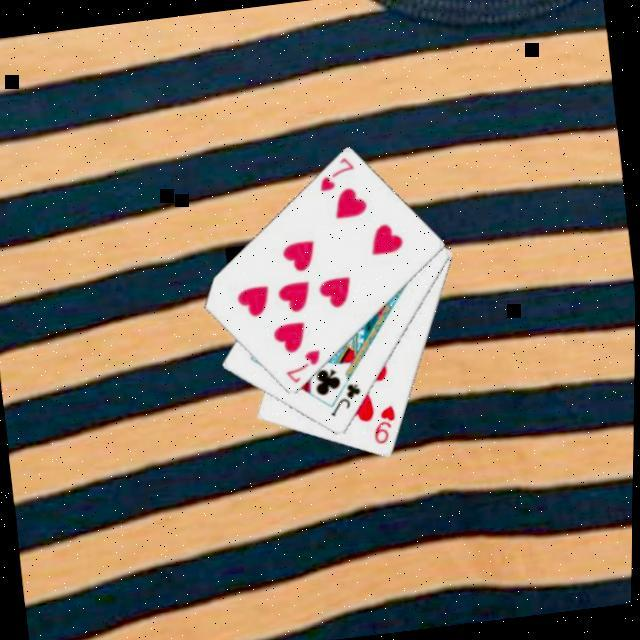7H: (279, 343, 325, 386), (311, 151, 357, 193)
9H: (366, 399, 402, 446)
JC: (323, 377, 365, 418)
